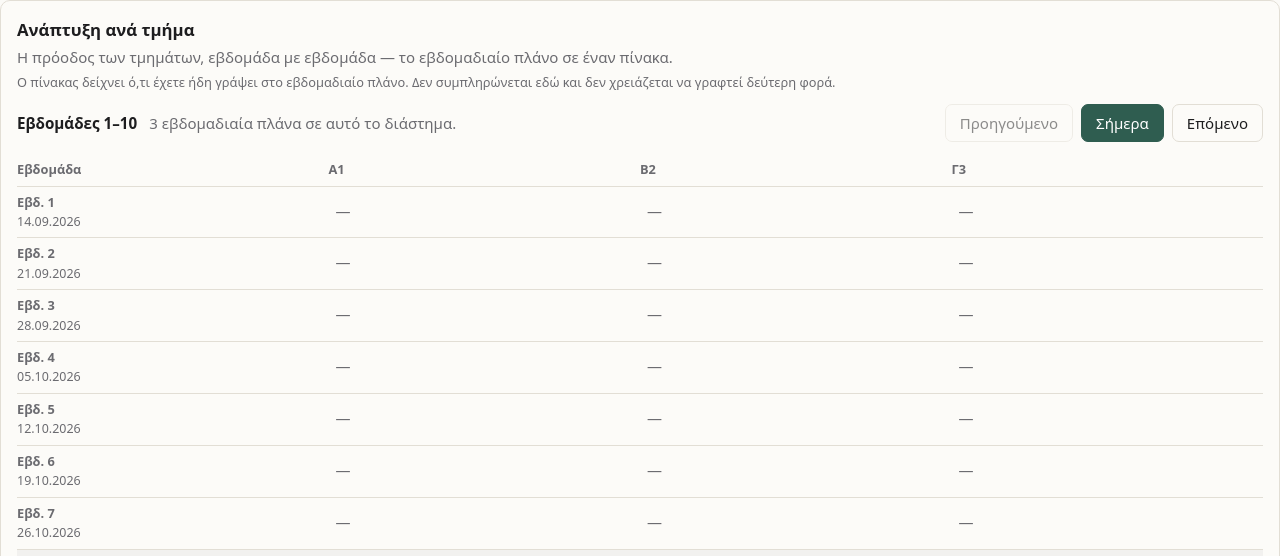
Test: the progress matrix reflects the weekly plan › pages through the year without losing where it is
Expected: the heading "Εβδομάδες 1–10" is shown, [17,112,137,134]
Click the button "Επόμενο" at (1217, 123), box [1172,104,1263,142]
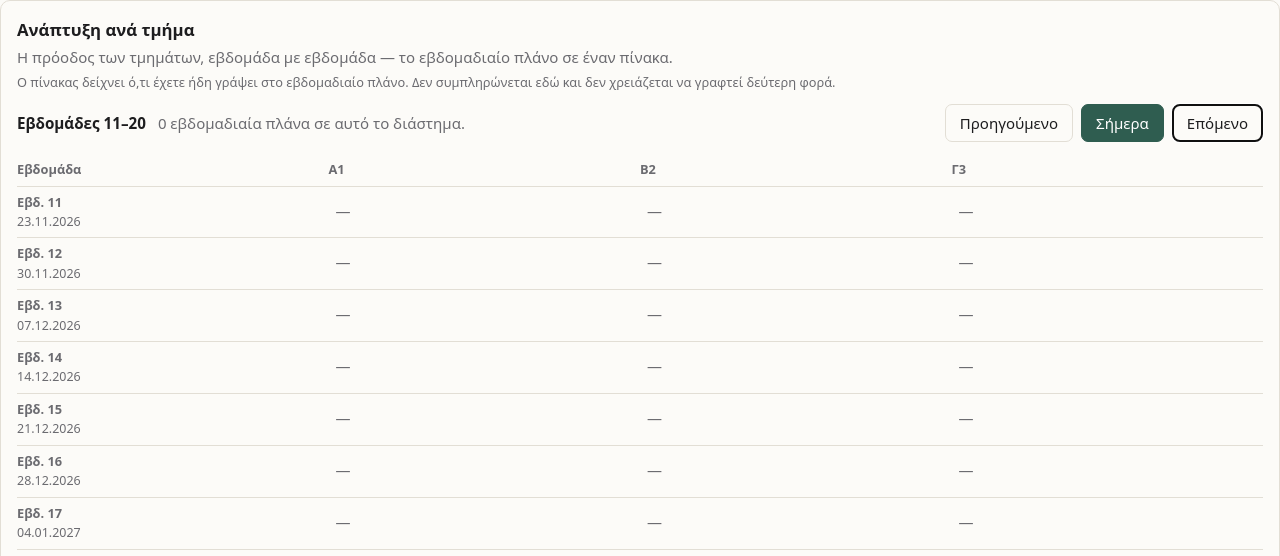
Expected: the heading "Εβδομάδες 11–20" is shown, [17,112,146,134]
Click the button "Σήμερα" at (1122, 123), box [1081,104,1164,142]
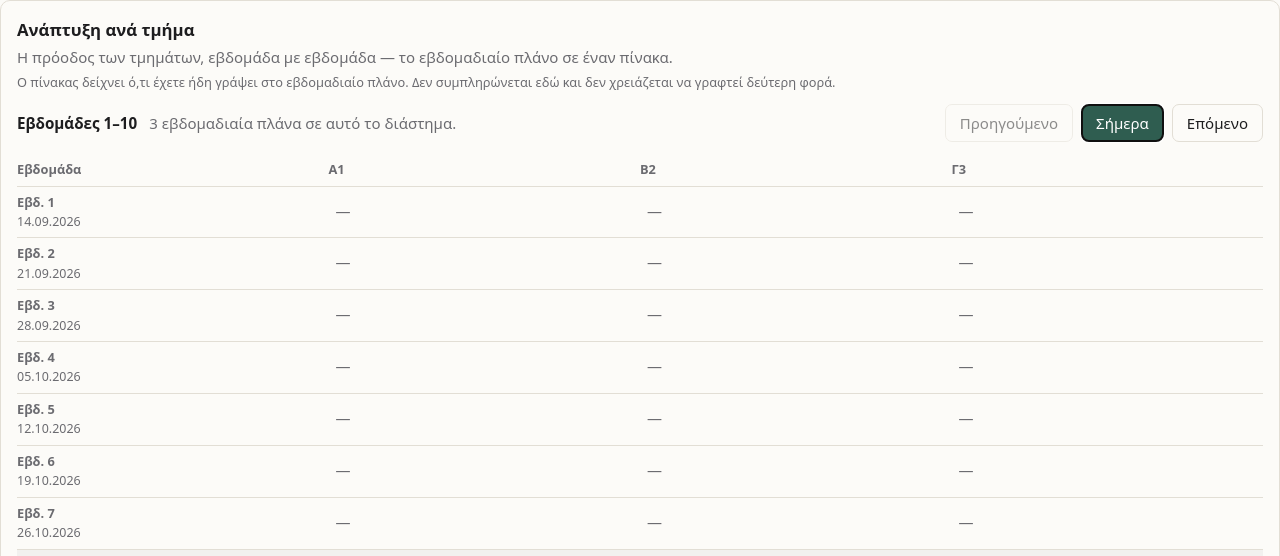
Expected: the heading "Εβδομάδες 1–10" is shown, [17,112,137,134]
